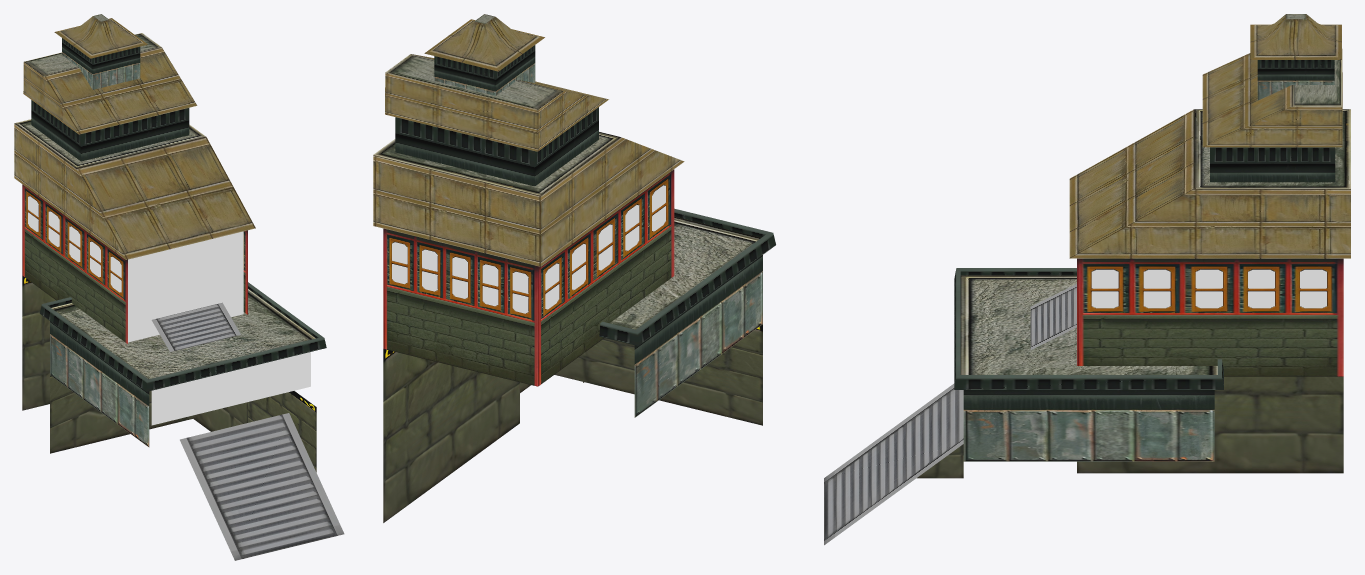
Rendered from l_palacecore_hdtex.glb.
3 renders of one model, left to right at view 1: azimuth 30°, elevation 25°; view 2: azimuth 150°, elevation 25°; view 3: azimuth 270°, elevation 25°, orthographic. The views are drawn at different scales.
Parts seen in each view (by area): view 1: palace_core, LitWin_palace_core; view 2: palace_core, LitWin_palace_core; view 3: palace_core, LitWin_palace_core.
Part boxes in pixels (left/top/right/bottom): palace_core: left=14, top=14, right=344, bottom=560; LitWin_palace_core: left=28, top=196, right=310, bottom=425; palace_core: left=373, top=14, right=775, bottom=522; LitWin_palace_core: left=392, top=185, right=665, bottom=313; palace_core: left=824, top=14, right=1350, bottom=545; LitWin_palace_core: left=1091, top=269, right=1326, bottom=308.
Size of the model in its own units: 22.42 by 46.72 by 45.12.
Materials: 7 (7 with a texture image).
